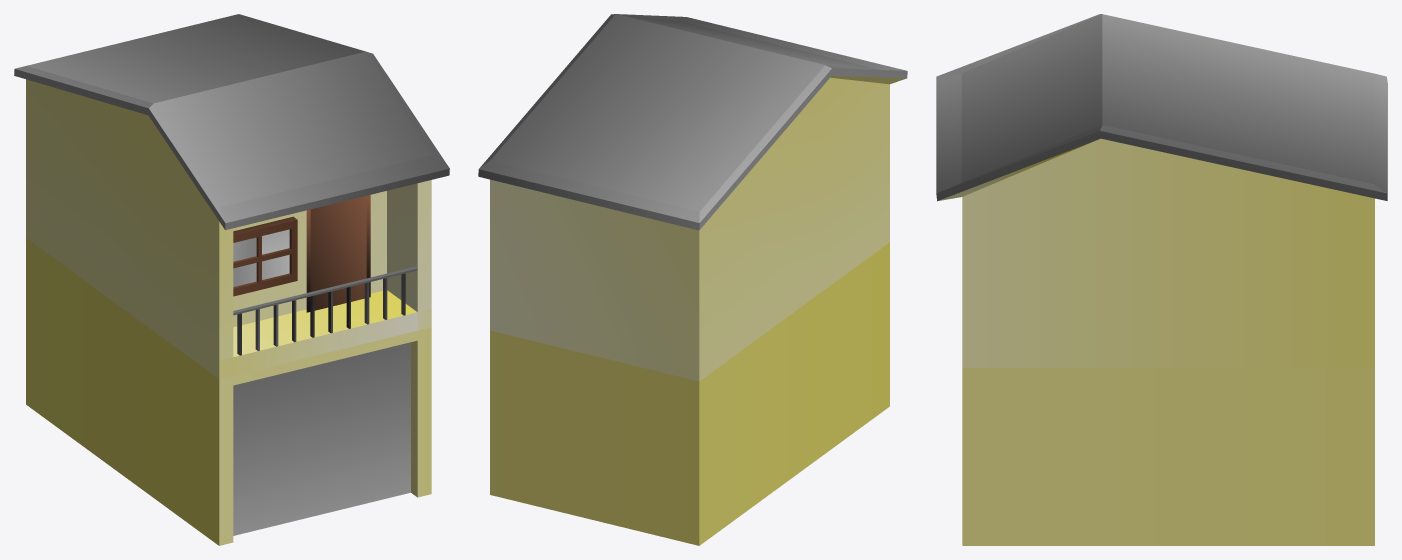
Rendered from SM_Steet_House_F2_iron_bar.fbx.
The picture shows the model from 3 angles, left to right: view 1: azimuth 30°, elevation 25°; view 2: azimuth 150°, elevation 25°; view 3: azimuth 270°, elevation 25°; orthographic projection. The views are drawn at different scales.
Parts seen in each view (by area): view 1: Steet_House_F2_mash.001, Steet_House_F1_mash.001; view 2: Steet_House_F2_mash.001, Steet_House_F1_mash.001; view 3: Steet_House_F2_mash.001, Steet_House_F1_mash.001.
Boxes of the visible parts, x1=… form: Steet_House_F2_mash.001: x1=14, y1=14, x2=449, y2=378; Steet_House_F1_mash.001: x1=26, y1=238, x2=431, y2=545; Steet_House_F2_mash.001: x1=478, y1=14, x2=907, y2=381; Steet_House_F1_mash.001: x1=490, y1=242, x2=889, y2=545; Steet_House_F2_mash.001: x1=936, y1=14, x2=1387, y2=367; Steet_House_F1_mash.001: x1=962, y1=368, x2=1374, y2=545.
Size of the model in its own units: 4.22 by 7.09 by 6.89.
